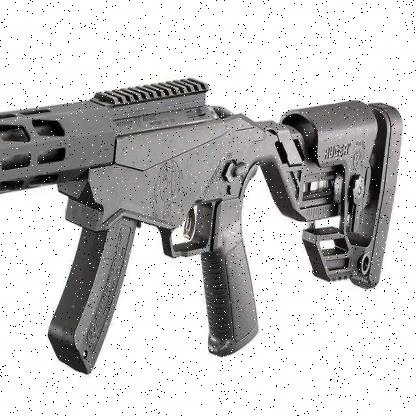rifle: (0, 50, 402, 358)
